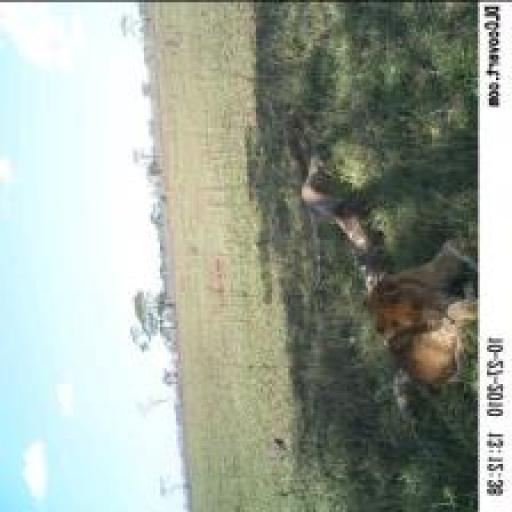lion: (359, 231, 476, 394)
